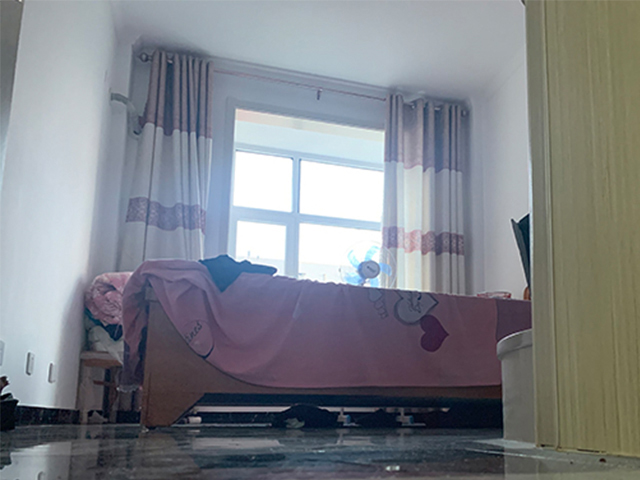bed: (121, 255, 531, 430)
curtain: (118, 50, 216, 267), (381, 90, 468, 295)
